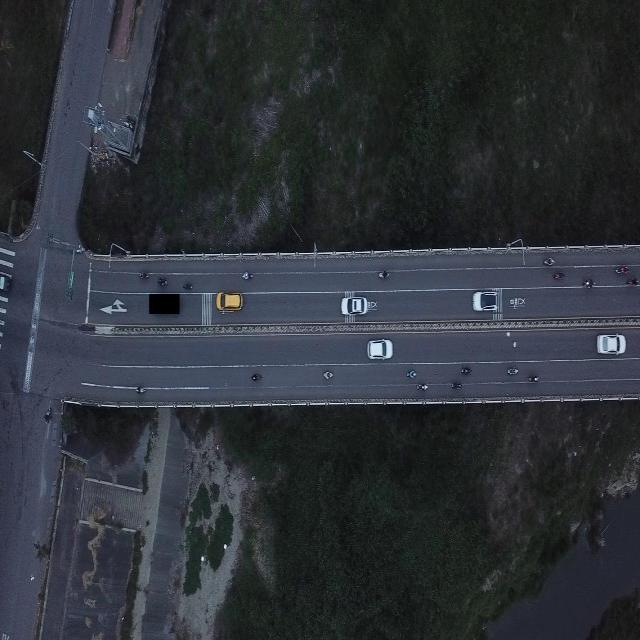bike: (250, 370, 264, 383), (614, 264, 628, 276), (44, 406, 52, 427), (552, 269, 565, 281), (322, 369, 334, 382), (542, 254, 555, 266), (377, 269, 390, 280), (460, 365, 472, 376), (506, 365, 518, 376), (416, 382, 428, 393), (527, 374, 539, 384), (583, 277, 593, 289), (406, 370, 418, 380), (451, 382, 462, 392), (157, 277, 168, 287), (138, 270, 150, 279), (241, 271, 252, 280), (629, 276, 639, 285), (136, 386, 146, 395), (183, 284, 194, 292)
car: (597, 330, 626, 357), (366, 335, 394, 362), (472, 287, 498, 312), (216, 289, 243, 312), (342, 293, 368, 314)
